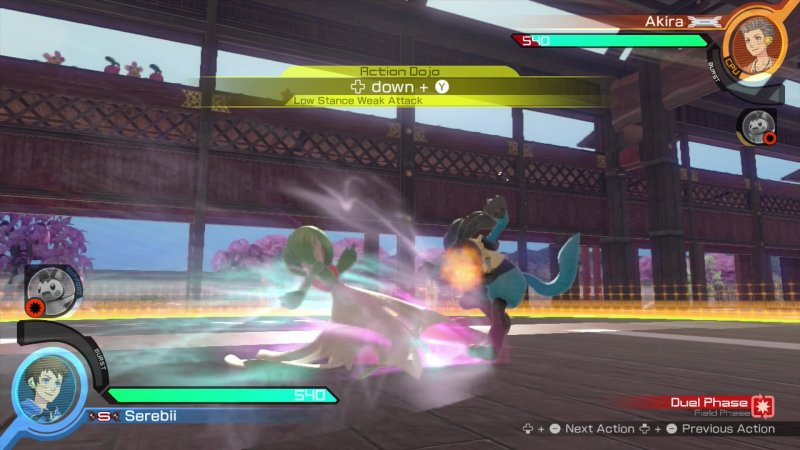gardevoir: (229, 220, 470, 382)
